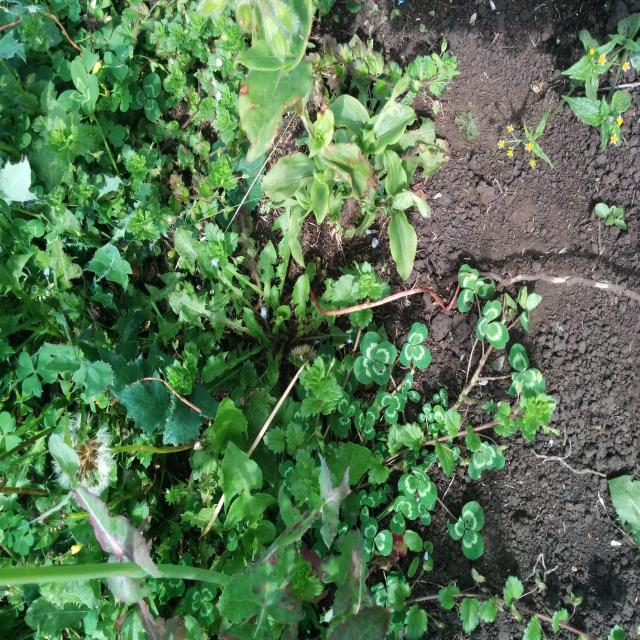Four Leaf Clover: (353, 331, 397, 385)
